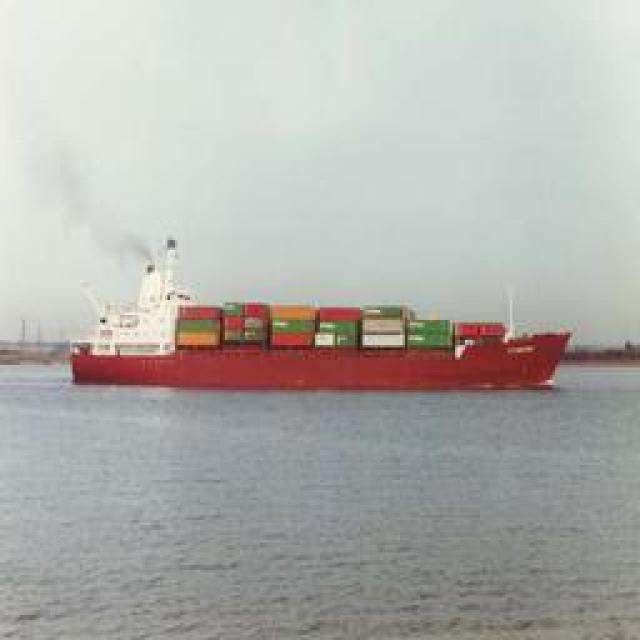Ship: (59, 265, 562, 395)
